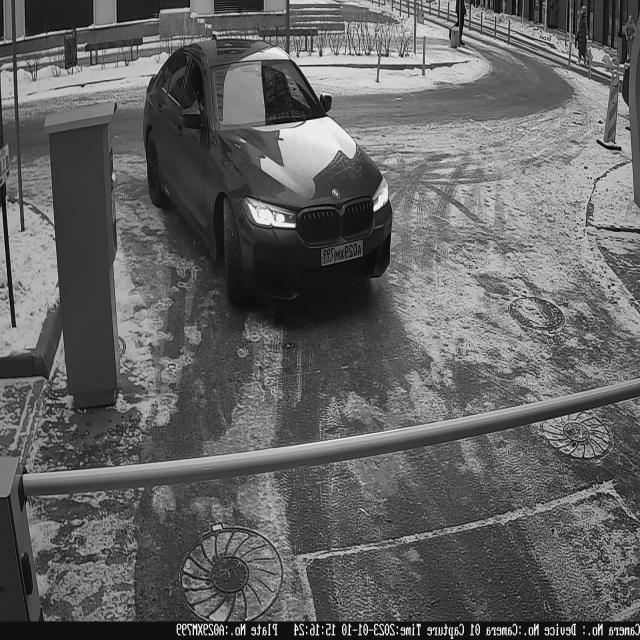car-plate-numbers: (320, 237, 368, 271)
